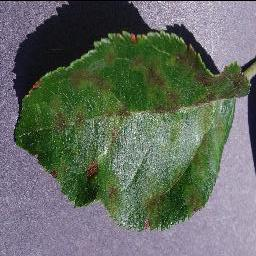apple healthy: (13, 28, 255, 232)
